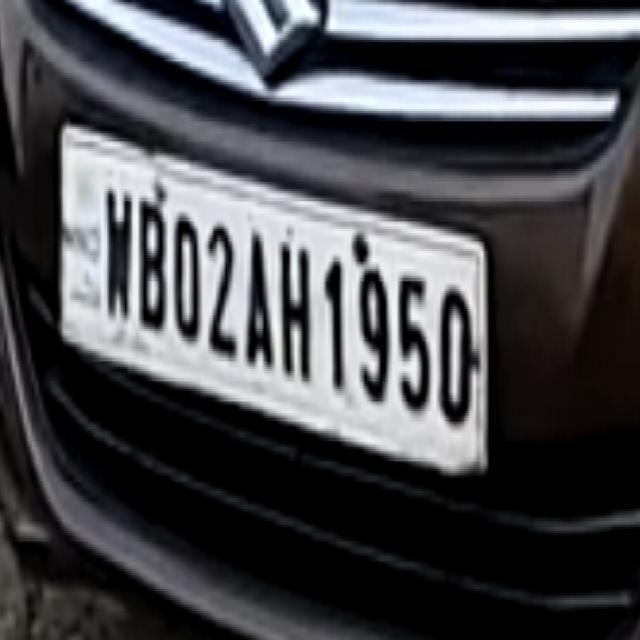0: (435, 290, 479, 446), (170, 198, 207, 348)
1: (319, 248, 351, 402)
5: (394, 261, 434, 421)
9: (356, 252, 394, 406)
A: (242, 220, 275, 376)
B: (136, 180, 167, 334)
H: (274, 231, 316, 396)
W: (96, 177, 134, 326)
